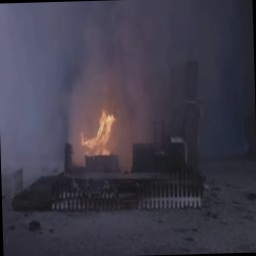fire: (69, 104, 129, 173)
smoke: (0, 0, 252, 103)
